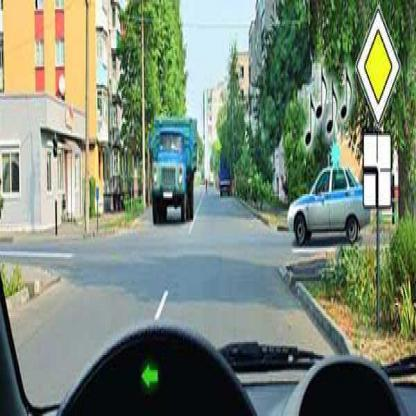road_sign: (357, 6, 401, 124), (363, 134, 392, 208)
